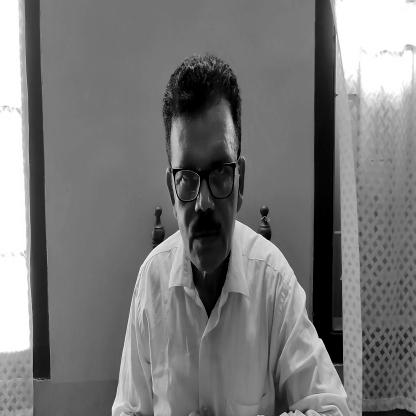Normal: (166, 49, 247, 283)
